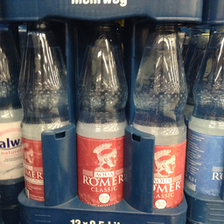water: (135, 19, 187, 206), (16, 23, 68, 202), (76, 22, 125, 208), (187, 24, 224, 195)
